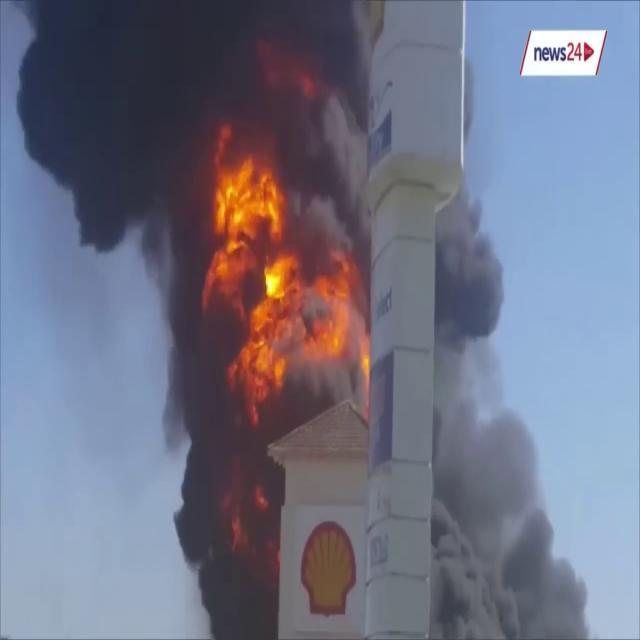Fire: (200, 138, 370, 394)
Smoke: (8, 1, 380, 363), (432, 165, 594, 640)
